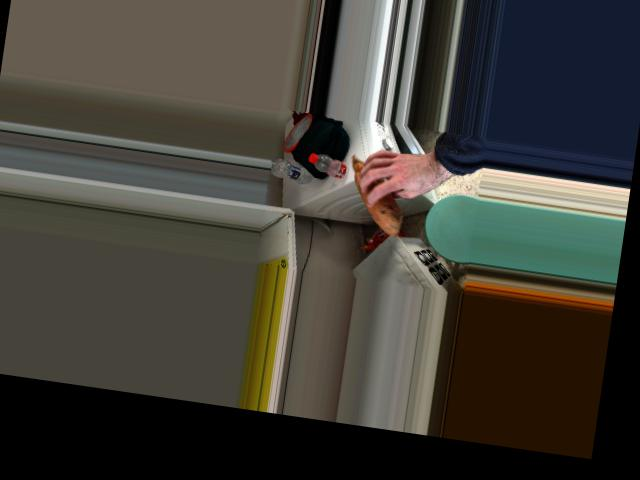sweet_potato: (345, 149, 408, 231)
